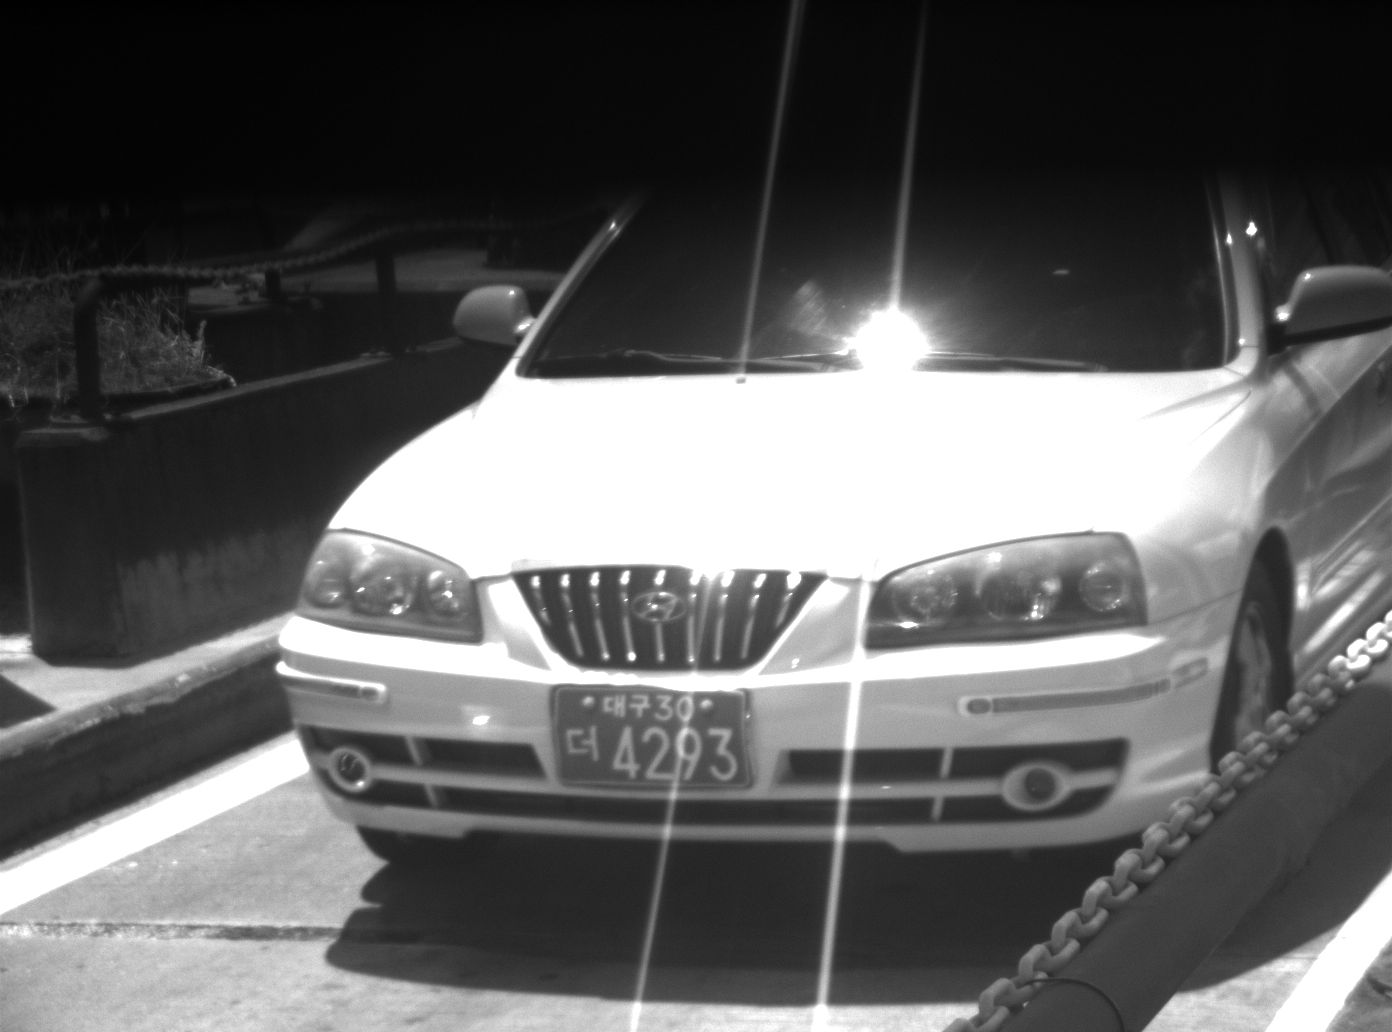car: (271, 158, 1392, 855)
plate: (551, 685, 752, 791)
